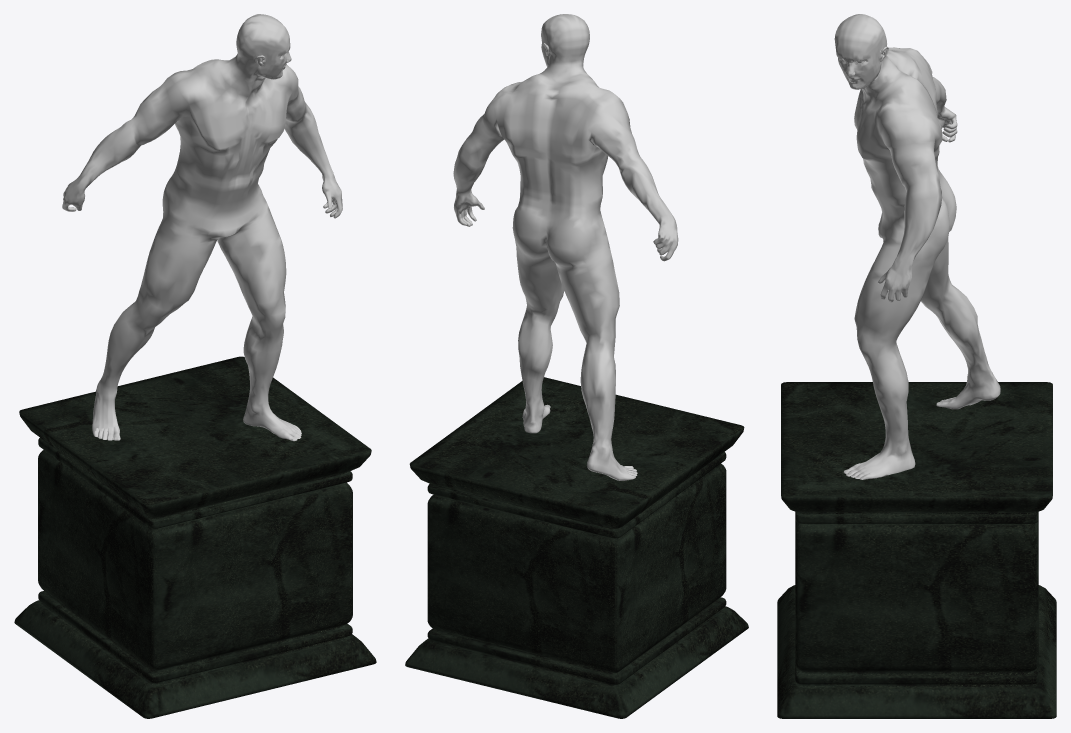
3 renders of one model, left to right at view 1: azimuth 30°, elevation 25°; view 2: azimuth 150°, elevation 25°; view 3: azimuth 270°, elevation 25°, orthographic. The views are drawn at different scales.
Parts seen in each view (by area): view 1: pedestal low poly, body low poly; view 2: pedestal low poly, body low poly; view 3: pedestal low poly, body low poly.
Boxes of the visible parts, x1=… form: pedestal low poly: x1=14, y1=356, x2=376, y2=718; body low poly: x1=62, y1=14, x2=342, y2=441; pedestal low poly: x1=405, y1=377, x2=748, y2=718; body low poly: x1=453, y1=14, x2=678, y2=480; pedestal low poly: x1=777, y1=382, x2=1056, y2=718; body low poly: x1=834, y1=14, x2=1000, y2=479.
Bounding box in the file's own units: 1.99 × 4.75 × 1.82.
